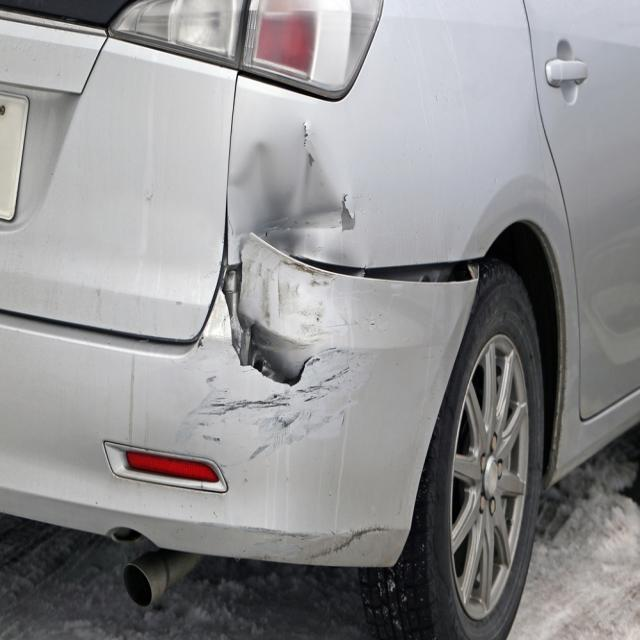crack: (221, 263, 314, 388)
dent: (227, 128, 348, 260)
scratch: (175, 301, 378, 479), (249, 256, 333, 349), (241, 524, 393, 558)
